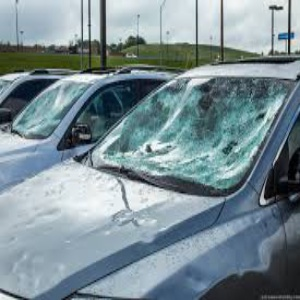front_windshield_glass: (130, 86, 252, 189)
